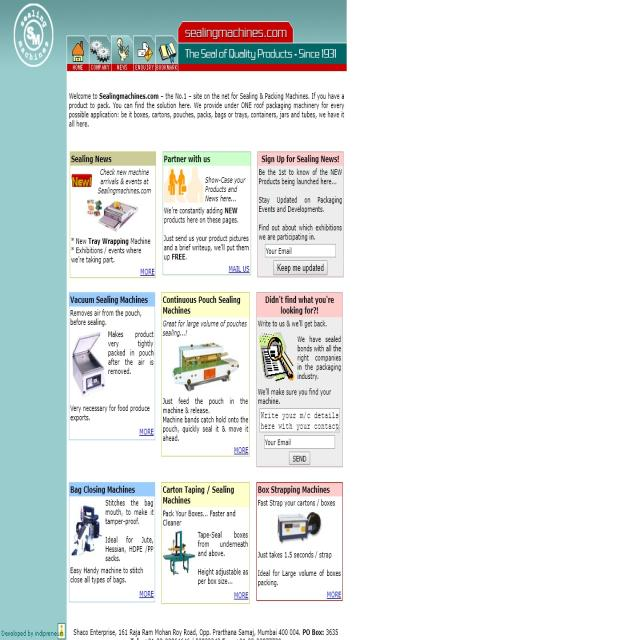button: (155, 34, 179, 70), (87, 35, 111, 70), (112, 34, 133, 70), (133, 36, 155, 70), (68, 36, 87, 72), (275, 263, 327, 275), (290, 451, 311, 467)
field: (260, 407, 340, 433), (265, 435, 335, 451), (265, 243, 335, 257)
heading: (182, 44, 347, 66), (161, 292, 242, 316), (185, 24, 292, 42), (162, 482, 239, 507), (264, 294, 337, 315), (260, 150, 341, 167), (256, 482, 332, 498), (70, 292, 150, 307), (70, 482, 136, 499), (163, 153, 211, 167), (70, 150, 111, 164)
image: (163, 338, 245, 392), (70, 329, 106, 396), (163, 527, 194, 599), (16, 2, 53, 62), (83, 194, 139, 233), (256, 330, 295, 385), (274, 507, 325, 549), (70, 503, 101, 560), (163, 166, 203, 206)
label: (266, 434, 292, 450), (266, 244, 292, 256)
link: (228, 264, 250, 276), (325, 589, 343, 602), (232, 444, 249, 457), (234, 590, 251, 602), (139, 266, 156, 277), (140, 426, 154, 438), (138, 590, 154, 600)
text: (68, 90, 344, 130), (258, 169, 342, 242), (163, 396, 252, 443), (103, 496, 153, 566), (258, 548, 342, 586), (70, 233, 152, 264), (163, 232, 253, 260), (296, 331, 343, 382), (108, 328, 154, 380), (160, 317, 249, 339), (68, 402, 152, 423), (68, 306, 147, 328), (161, 507, 241, 528), (197, 528, 250, 559), (257, 387, 335, 408), (69, 565, 147, 586), (162, 207, 240, 226), (98, 168, 154, 194), (197, 566, 248, 591), (205, 175, 246, 204), (258, 496, 340, 510), (257, 317, 328, 330)
